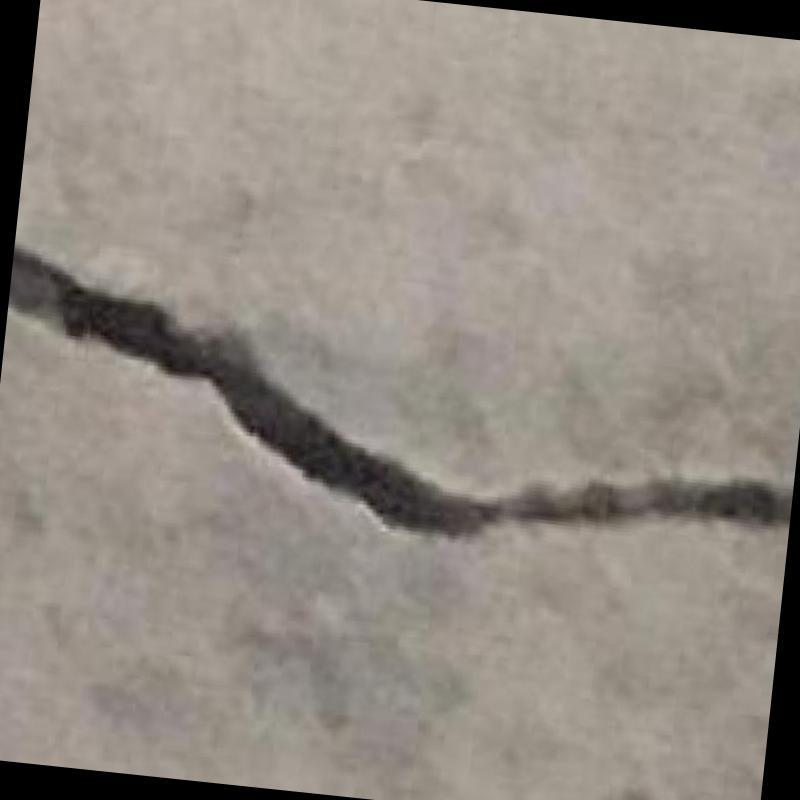crack: (8, 244, 792, 535)
